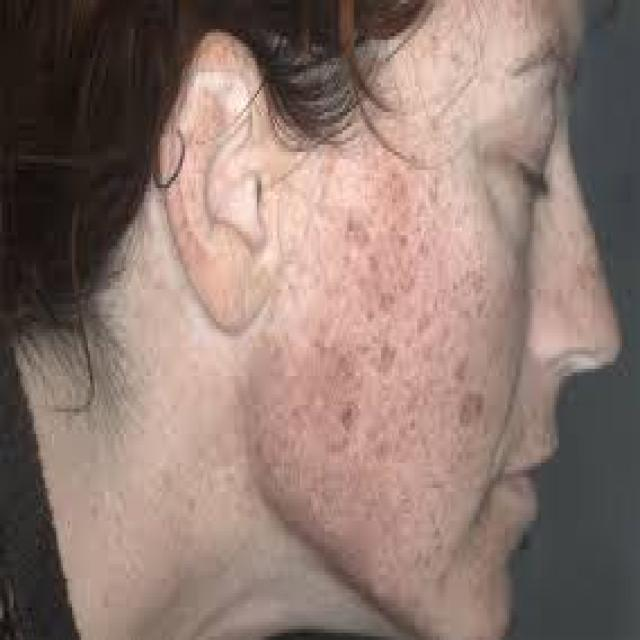pigmentation: (342, 193, 477, 460)
